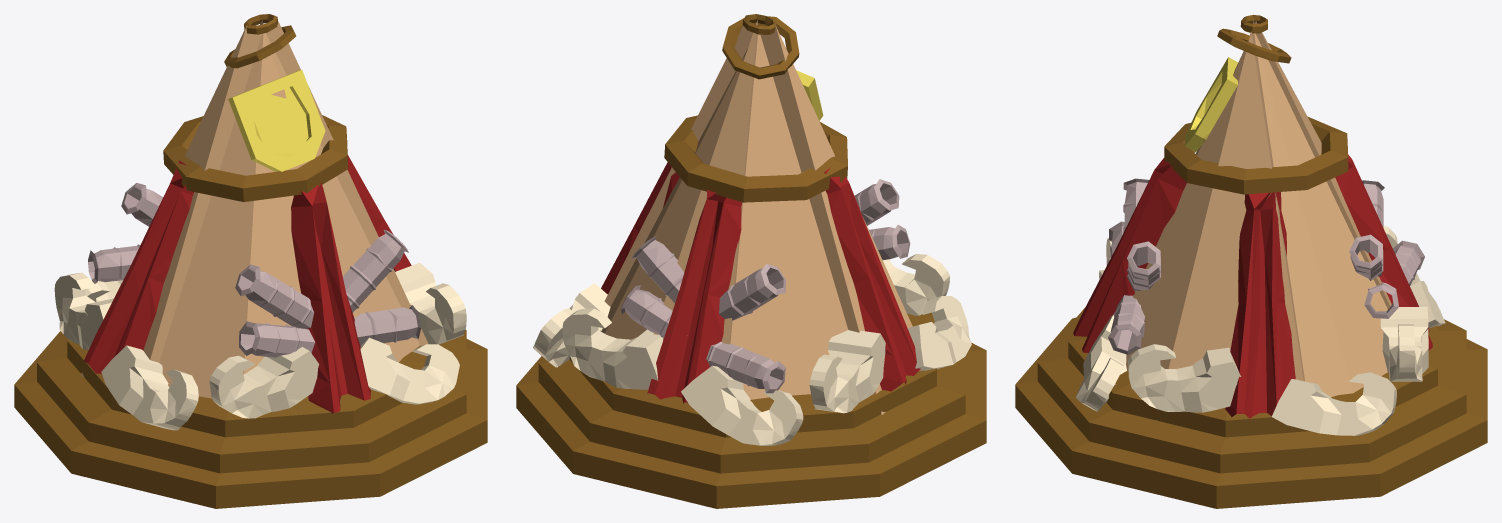
Rendered from Torre español_1.fbx.
3 views of the same model, side by side, from view 1: azimuth 30°, elevation 25°; view 2: azimuth 150°, elevation 25°; view 3: azimuth 270°, elevation 25° (orthographic).
Parts seen in each view (by area): view 1: totem_español_primer_daño; view 2: totem_español_primer_daño; view 3: totem_español_primer_daño.
Part boxes in pixels (x1,y1,x2,y2): totem_español_primer_daño: (14,14,487,508); totem_español_primer_daño: (516,14,986,508); totem_español_primer_daño: (1015,14,1487,508).
Size of the model in its own units: 14.53 by 13.26 by 14.31.
